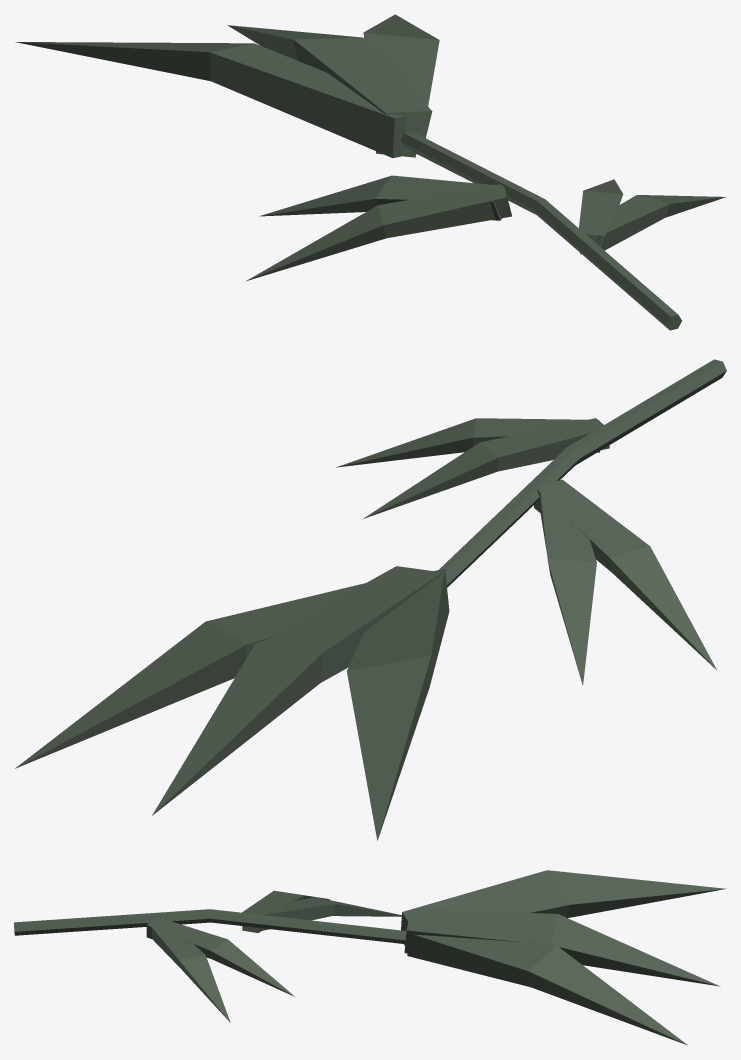
3 renders of one model, top to bottom at view 1: azimuth 30°, elevation 25°; view 2: azimuth 150°, elevation 25°; view 3: azimuth 270°, elevation 25°, orthographic. The views are drawn at different scales.
Parts seen in each view (by area): view 1: bamboo-leaf1; view 2: bamboo-leaf1; view 3: bamboo-leaf1.
Part boxes in pixels (<box>): bamboo-leaf1: <box>15,14,725,330</box>; bamboo-leaf1: <box>15,359,726,840</box>; bamboo-leaf1: <box>14,870,726,1045</box>.
Size of the model in its own units: 28.62 by 6.69 by 58.
